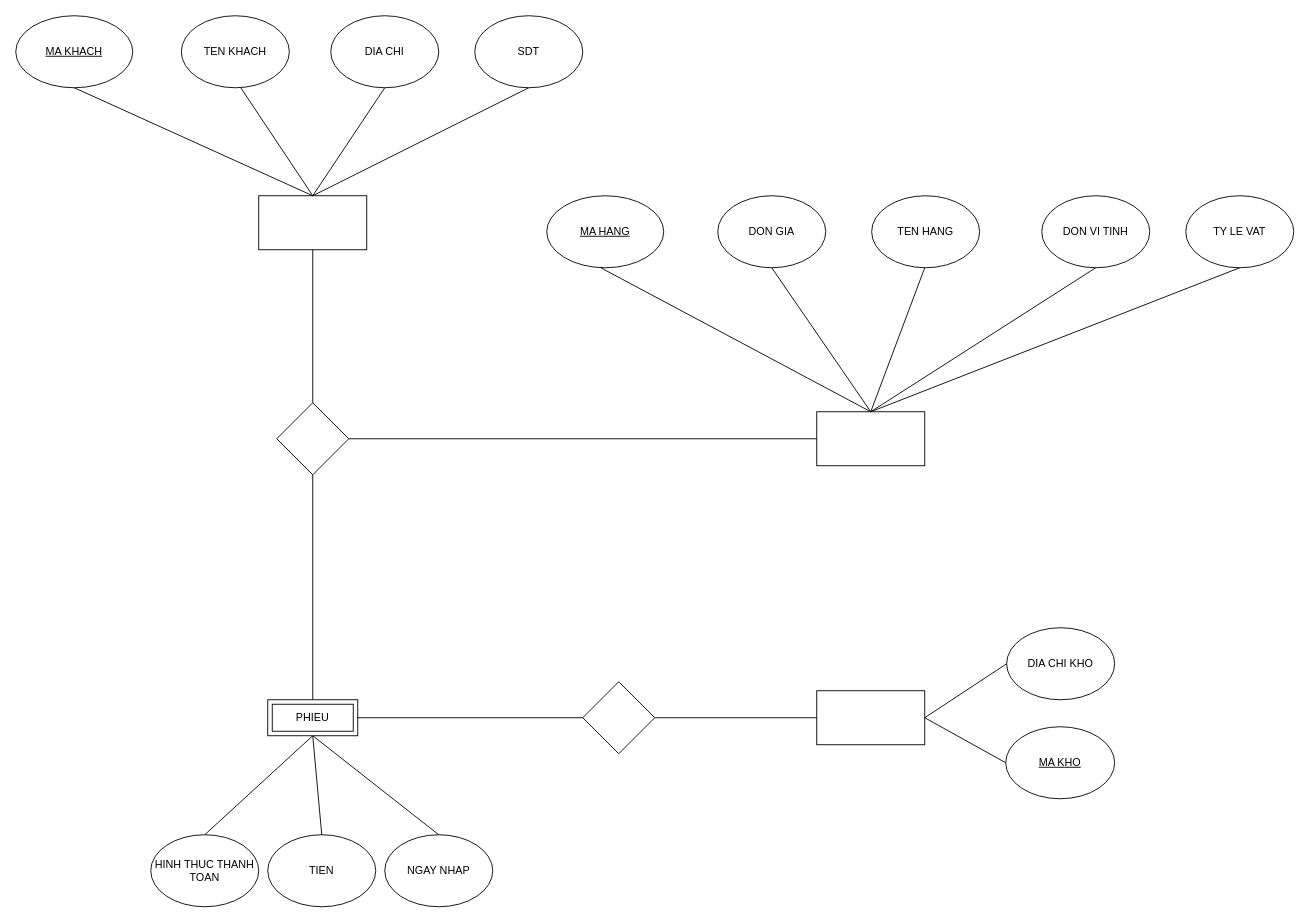
Some shapes in this 1310 by 923 pixel diagram are drawn without their labels. Here are the shapes that lost their labels. From the top down, the box of each, then its label:
(258, 195, 367, 250): KHACH HANG
(276, 402, 349, 475): NHAP
(816, 411, 925, 466): HANG
(582, 681, 655, 754): XUAT
(816, 690, 925, 745): KHO
